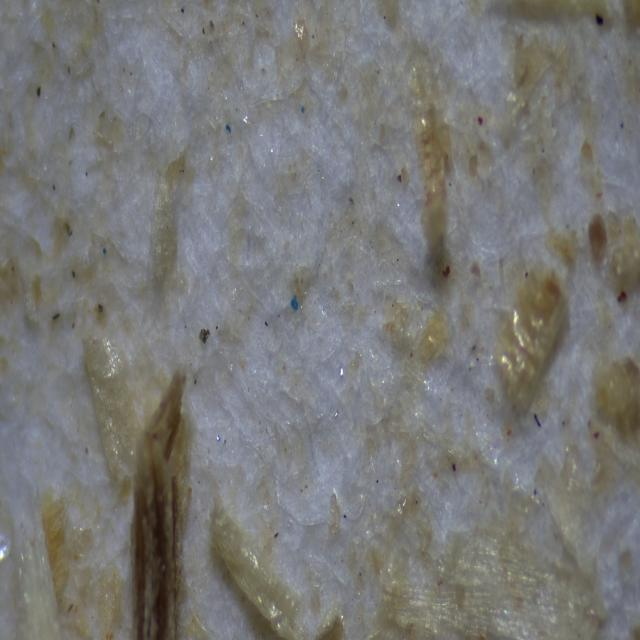microplastic: (288, 295, 301, 315)
